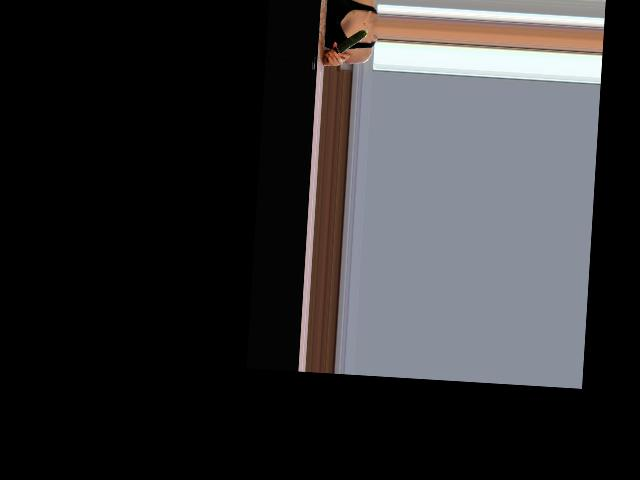cucumber: (325, 28, 367, 64)
